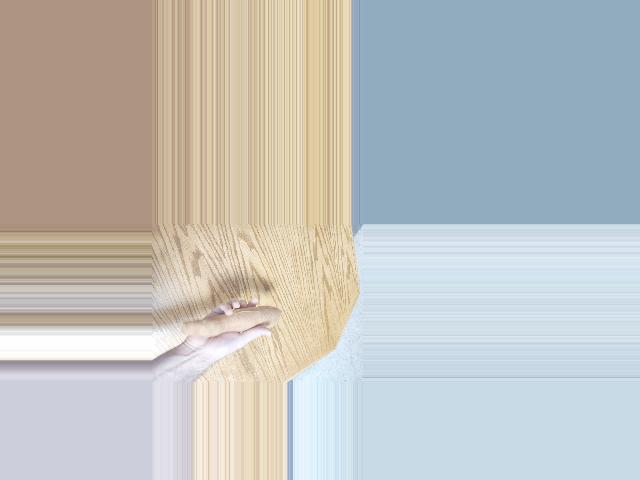sweet_potato: (171, 304, 283, 345)
